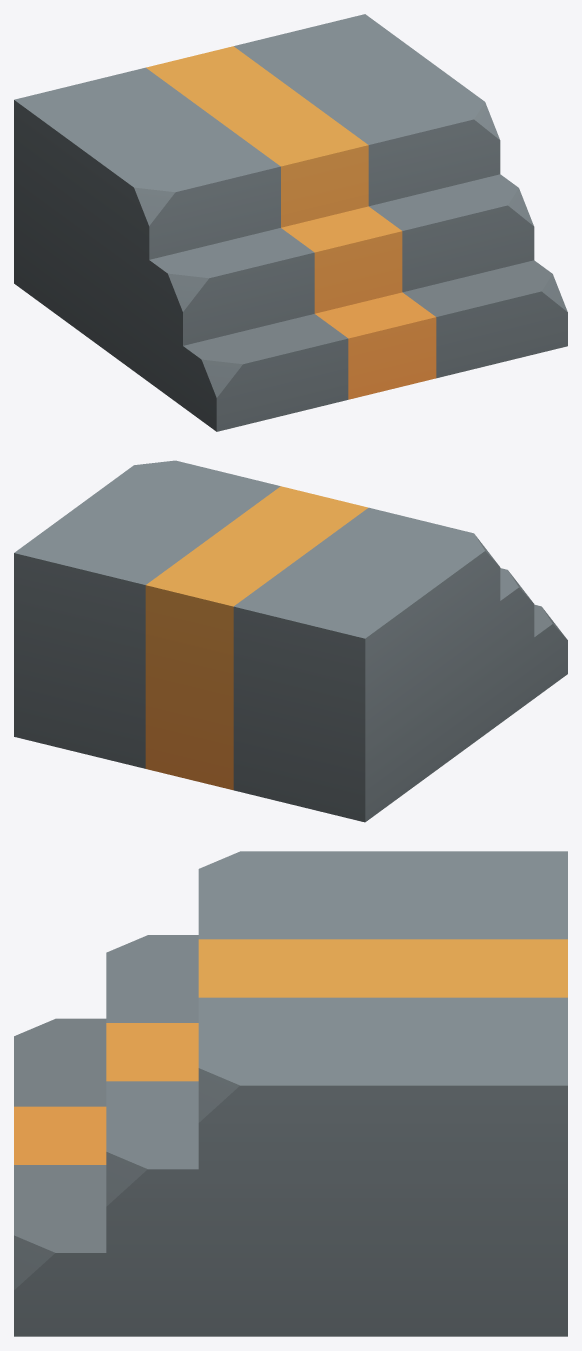
The model's file is stairs_low.gltf.glb.
3 renders of one model, top to bottom at view 1: azimuth 30°, elevation 25°; view 2: azimuth 150°, elevation 25°; view 3: azimuth 270°, elevation 25°, orthographic. The views are drawn at different scales.
Parts seen in each view (by area): view 1: stairs_low; view 2: stairs_low; view 3: stairs_low.
Part boxes in pixels (x1,y1,x2,y2): stairs_low: (14, 14, 567, 431); stairs_low: (14, 460, 567, 822); stairs_low: (14, 851, 567, 1336).
Bounding box in the file's own units: 2 × 1 × 2.
Materials: 1 (1 with a texture image).
